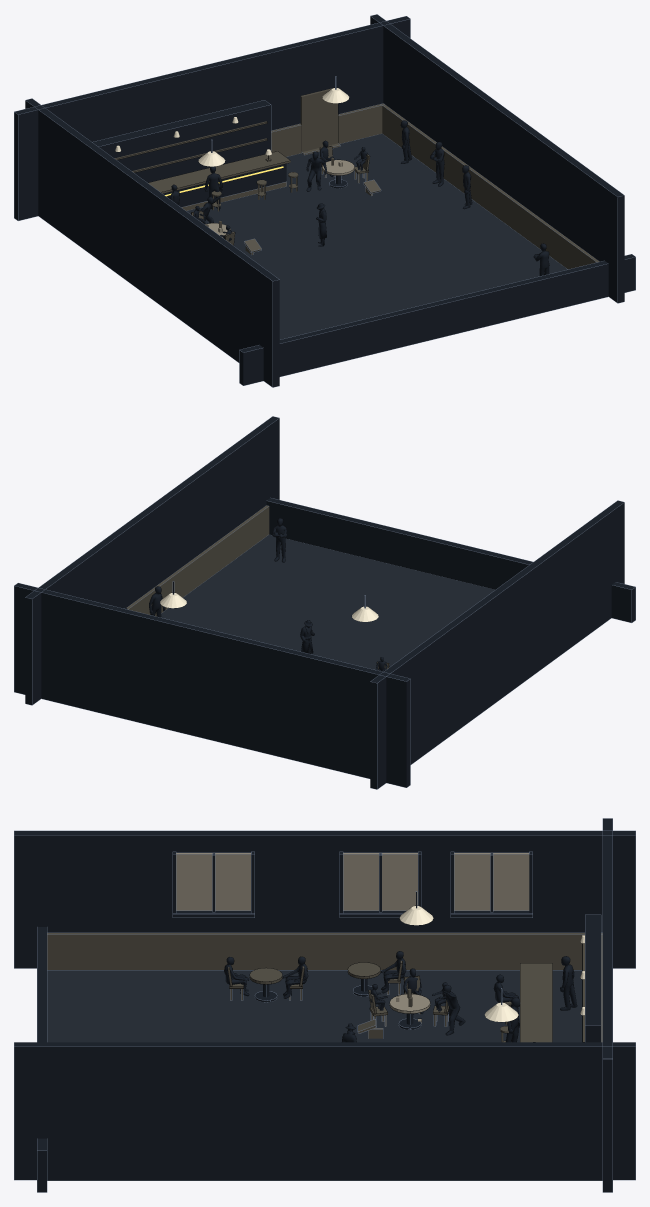
Rendered from 醉客互相叫骂.fbx.
3 views of the same model, one above another, from view 1: azimuth 30°, elevation 25°; view 2: azimuth 150°, elevation 25°; view 3: azimuth 270°, elevation 25° (orthographic). The views are drawn at different scales.
Parts seen in each view (by area): view 1: 地板, 左墙.001, 远墙.001, 右墙.003, 前墙剖切, 吧台背柜, 右墙护墙, 描线_focus_醉客互相叫骂_暗, 远墙护墙, 门框, 吧台台面, 吧台前柜 (+1 smaller); view 2: 远墙.001, 左墙.001, 地板, 右墙.003, 前墙剖切, 描线_focus_醉客互相叫骂_暗, 右墙护墙; view 3: 右墙.003, 左墙.001, 地板, 左墙护墙, 描线_focus_醉客互相叫骂_暗, 左窗3玻璃, 左窗1玻璃, 左窗2玻璃, 远墙.001, 吧台台面, 吧台背柜, 前墙剖切 (+5 smaller).
Boxes of the visible parts, x1=… form: 地板: x1=186, y1=134, x2=567, y2=339; 左墙.001: x1=25, y1=98, x2=279, y2=387; 远墙.001: x1=14, y1=16, x2=410, y2=220; 右墙.003: x1=370, y1=14, x2=624, y2=302; 前墙剖切: x1=239, y1=254, x2=635, y2=385; 吧台背柜: x1=92, y1=100, x2=270, y2=182; 右墙护墙: x1=381, y1=103, x2=599, y2=269; 描线_focus_醉客互相叫骂_暗: x1=14, y1=14, x2=635, y2=387; 远墙护墙: x1=271, y1=104, x2=382, y2=156; 门框: x1=300, y1=88, x2=337, y2=151; 吧台台面: x1=148, y1=151, x2=290, y2=193; 吧台前柜: x1=163, y1=164, x2=286, y2=207; 远墙.001: x1=14, y1=583, x2=410, y2=787; 左墙.001: x1=370, y1=500, x2=624, y2=789; 地板: x1=161, y1=534, x2=495, y2=669; 右墙.003: x1=25, y1=416, x2=279, y2=704; 前墙剖切: x1=266, y1=498, x2=635, y2=622; 描线_focus_醉客互相叫骂_暗: x1=14, y1=416, x2=635, y2=789; 右墙护墙: x1=127, y1=505, x2=269, y2=616; 右墙.003: x1=14, y1=1042, x2=635, y2=1179; 左墙.001: x1=14, y1=831, x2=635, y2=968; 地板: x1=47, y1=970, x2=602, y2=1180; 左墙护墙: x1=47, y1=933, x2=602, y2=969; 描线_focus_醉客互相叫骂_暗: x1=14, y1=818, x2=635, y2=1192; 左窗3玻璃: x1=454, y1=853, x2=529, y2=910; 左窗1玻璃: x1=176, y1=853, x2=250, y2=910; 左窗2玻璃: x1=343, y1=853, x2=417, y2=910; 远墙.001: x1=603, y1=818, x2=612, y2=1192; 吧台台面: x1=520, y1=963, x2=552, y2=1042; 吧台背柜: x1=585, y1=915, x2=600, y2=1042; 前墙剖切: x1=37, y1=927, x2=46, y2=1192.
Size of the model in its own units: 1742 by 468 by 1902.
